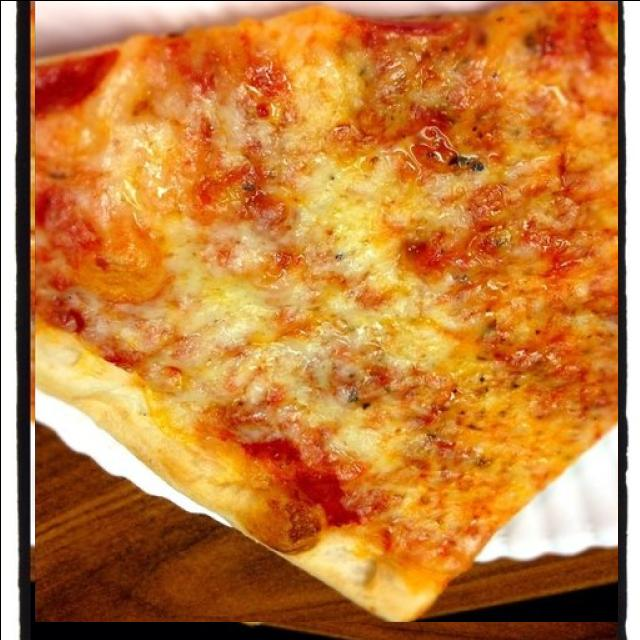pizza: (33, 0, 616, 621)
